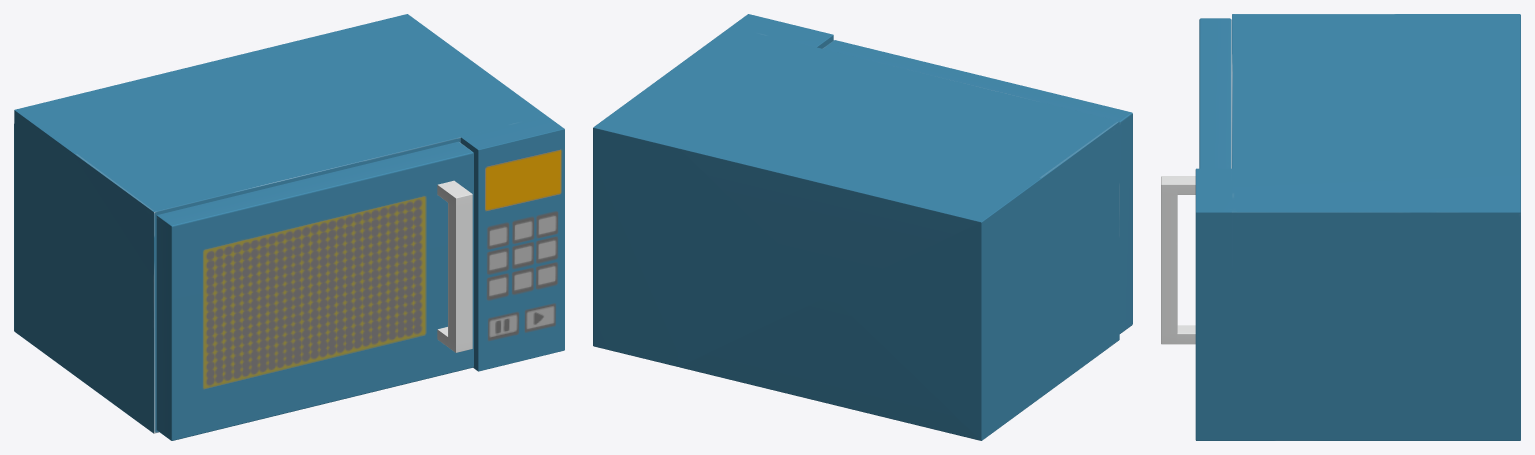
File: Microondas.fbx
The picture shows the model from 3 angles, left to right: view 1: azimuth 30°, elevation 25°; view 2: azimuth 150°, elevation 25°; view 3: azimuth 270°, elevation 25°; orthographic projection. The views are drawn at different scales.
Visible parts, largest first — view 1: Microondas_UV:Microondas_MESHpolySurface4; view 2: Microondas_UV:Microondas_MESHpolySurface4; view 3: Microondas_UV:Microondas_MESHpolySurface4.
Part boxes in pixels (left/top/right/bottom): Microondas_UV:Microondas_MESHpolySurface4: left=14, top=14, right=564, bottom=440; Microondas_UV:Microondas_MESHpolySurface4: left=593, top=14, right=1132, bottom=440; Microondas_UV:Microondas_MESHpolySurface4: left=1161, top=14, right=1520, bottom=440.
Bounding box in the file's own units: 1.3 × 0.7 × 0.996.
